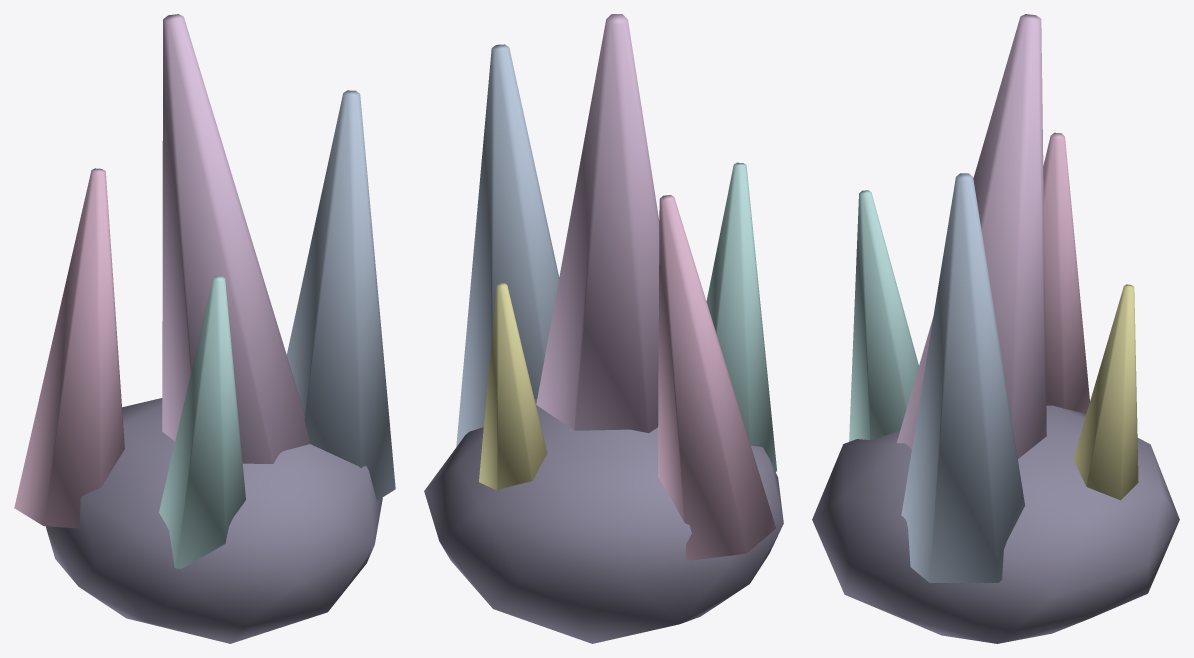
Rendered from gym_deco_shrine_lite.glb.
3 renders of one model, left to right at view 1: azimuth 30°, elevation 25°; view 2: azimuth 150°, elevation 25°; view 3: azimuth 270°, elevation 25°, orthographic. The views are drawn at different scales.
Visible parts, largest first — view 1: Icosphere; view 2: Icosphere; view 3: Icosphere.
Boxes of the visible parts, x1,y1,x2,y2 form: Icosphere: (14, 14, 395, 643); Icosphere: (424, 14, 783, 643); Icosphere: (812, 14, 1179, 643).
Size of the model in its own units: 2.22 by 3.95 by 2.22.
